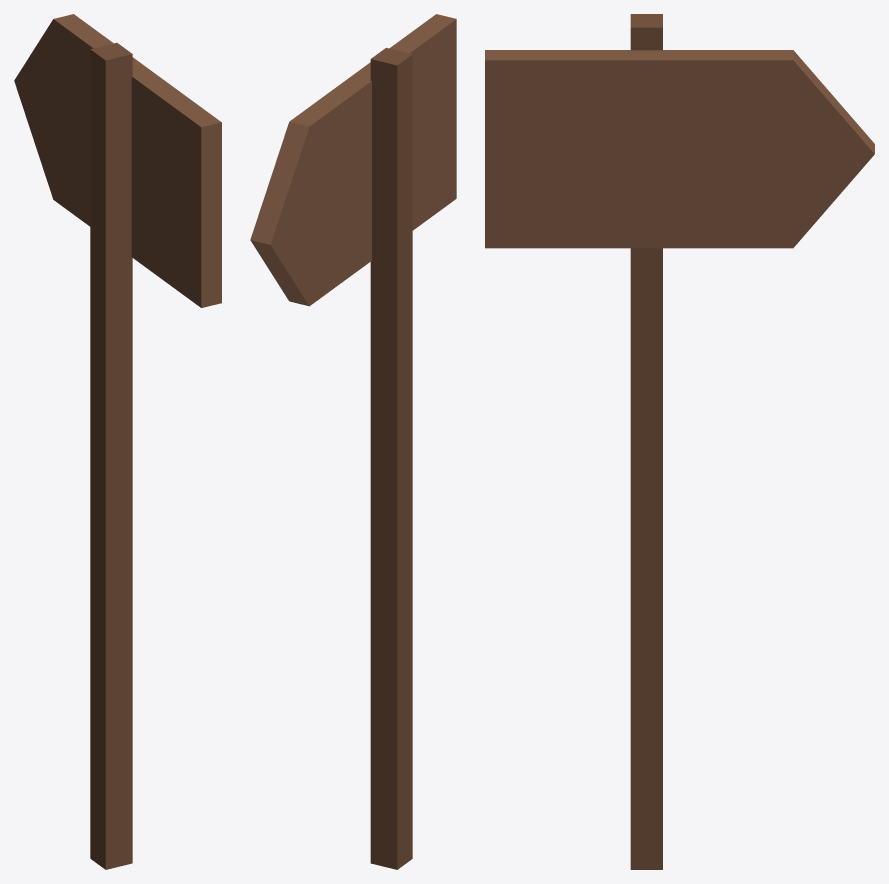
File: sign.glb
The picture shows the model from 3 angles, left to right: view 1: azimuth 30°, elevation 25°; view 2: azimuth 150°, elevation 25°; view 3: azimuth 270°, elevation 25°; orthographic projection. The views are drawn at different scales.
Visible parts, largest first — view 1: Cube, Cube.001; view 2: Cube, Cube.001; view 3: Cube.001, Cube.
Part boxes in pixels (x1,y1,x2,y2): Cube: (90, 42, 132, 869); Cube.001: (14, 14, 221, 307); Cube: (370, 48, 412, 869); Cube.001: (250, 14, 456, 306); Cube.001: (485, 50, 874, 248); Cube: (630, 14, 662, 869).
Size of the model in its own units: 0.391 by 6.55 by 2.75.
